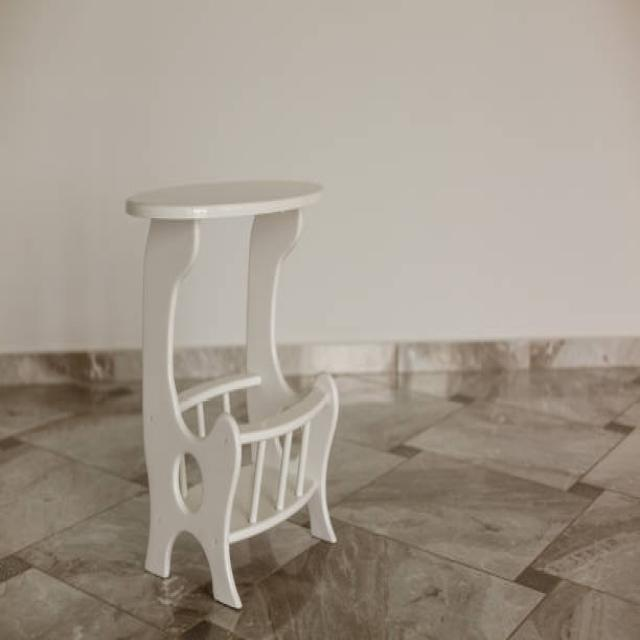table: (124, 177, 339, 609)
